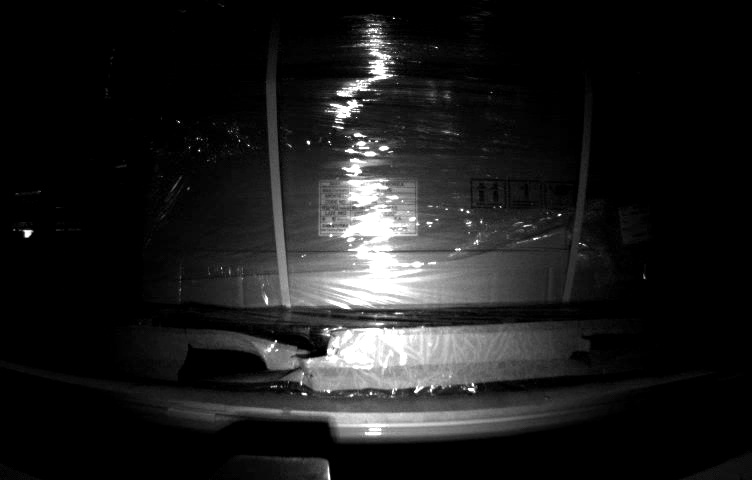True Barcode: (615, 201, 663, 242)
